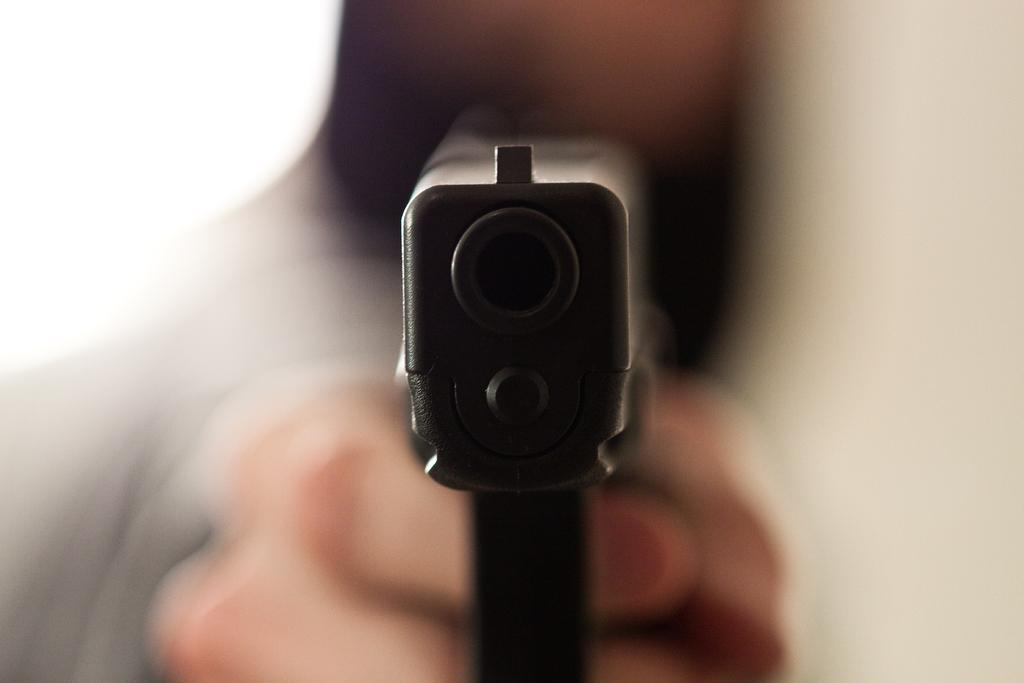non-violence: (1, 1, 798, 674)
weapon: (391, 95, 669, 682)
